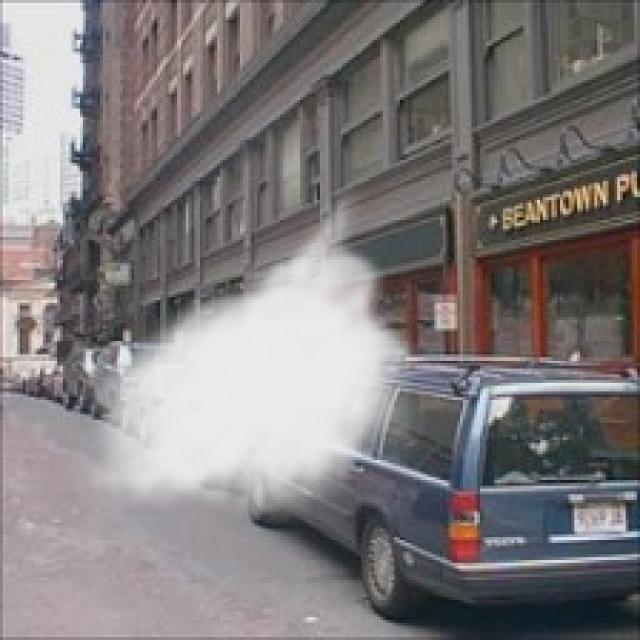smoke: (71, 183, 426, 526)
